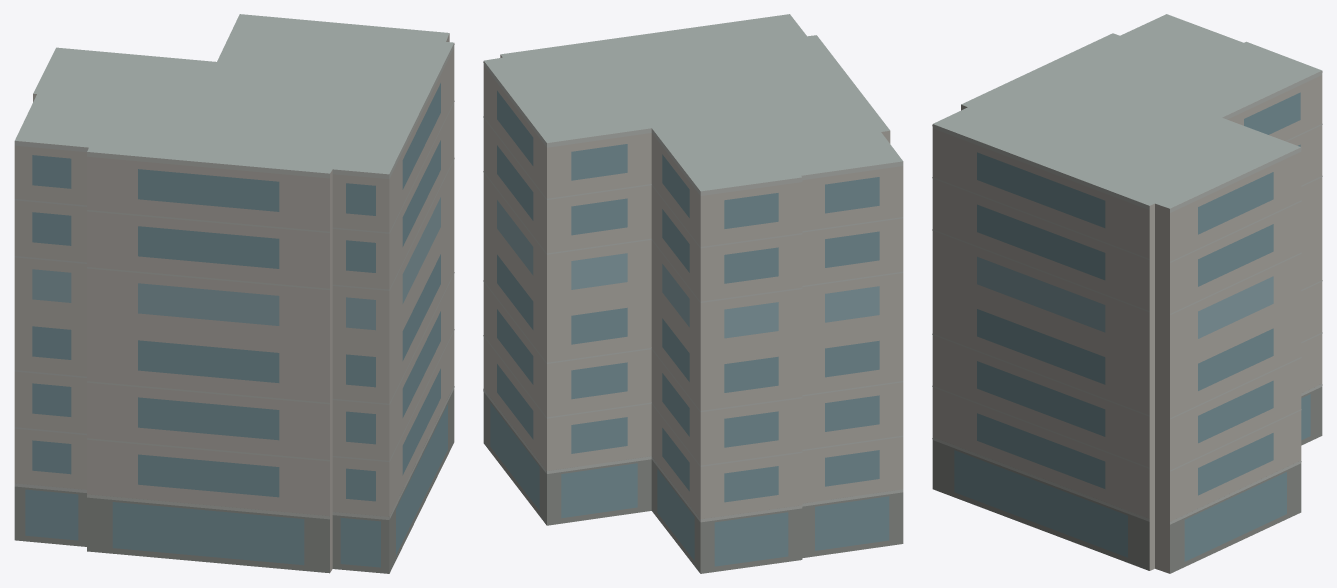
Rendered from survey-upis-32527577.glb.
The picture shows the model from 3 angles, left to right: view 1: azimuth 30°, elevation 25°; view 2: azimuth 150°, elevation 25°; view 3: azimuth 270°, elevation 25°; orthographic projection. The views are drawn at different scales.
Parts seen in each view (by area): view 1: survey-upis-32527577.tmp; view 2: survey-upis-32527577.tmp; view 3: survey-upis-32527577.tmp.
Part boxes in pixels (x1,y1,x2,y2): survey-upis-32527577.tmp: [14, 14, 454, 573]; survey-upis-32527577.tmp: [483, 14, 903, 573]; survey-upis-32527577.tmp: [932, 14, 1322, 573].
Bounding box in the file's own units: 23.12 × 20.2 × 19.56.
